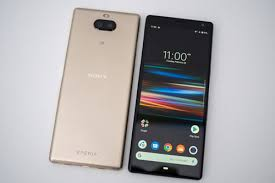sony: (47, 1, 140, 176), (128, 12, 217, 182)
